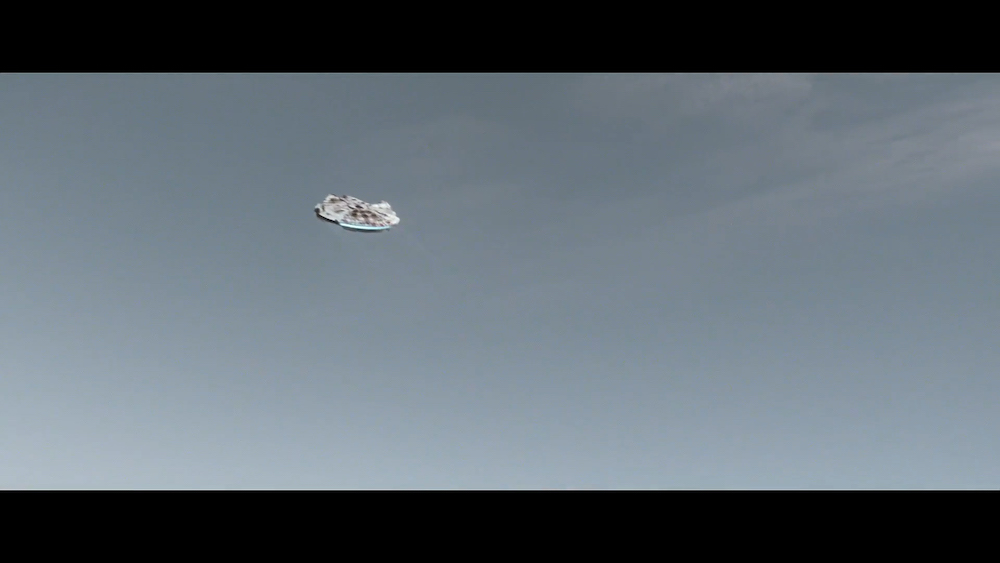Millennium Falcon: (313, 192, 403, 236)
